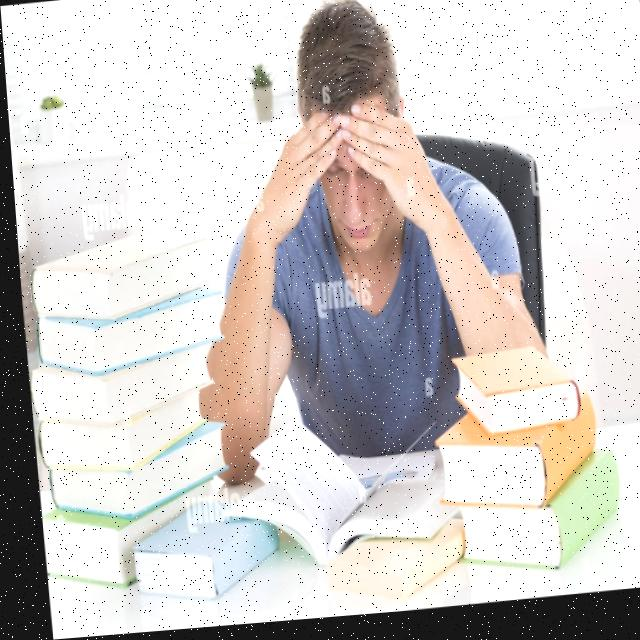studying-person: (169, 0, 615, 603)
